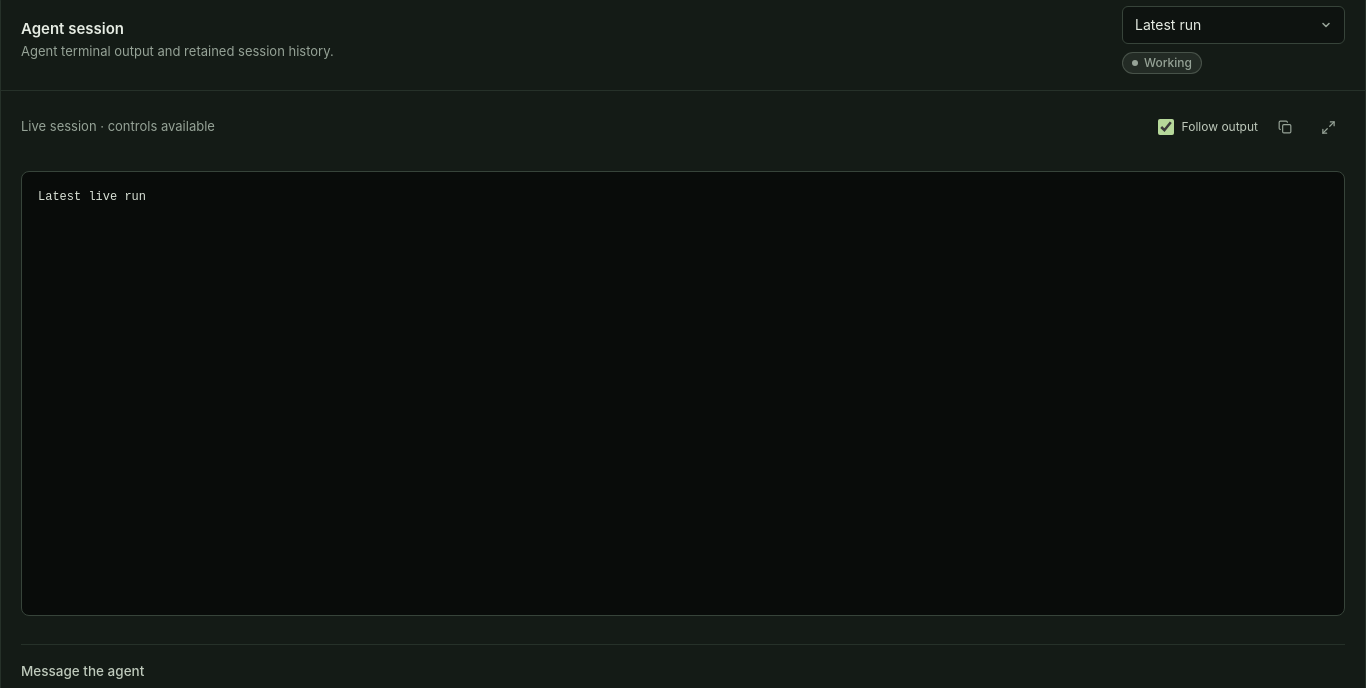
keeps explicitly selected history pinned and can return to Latest run
The image size is (1366, 688).
Select "Run 1 · run-1" in the dropdown named "Agent run": {"x": 1234, "y": 25} [1122,6,1345,44]
Wait 1500 ms
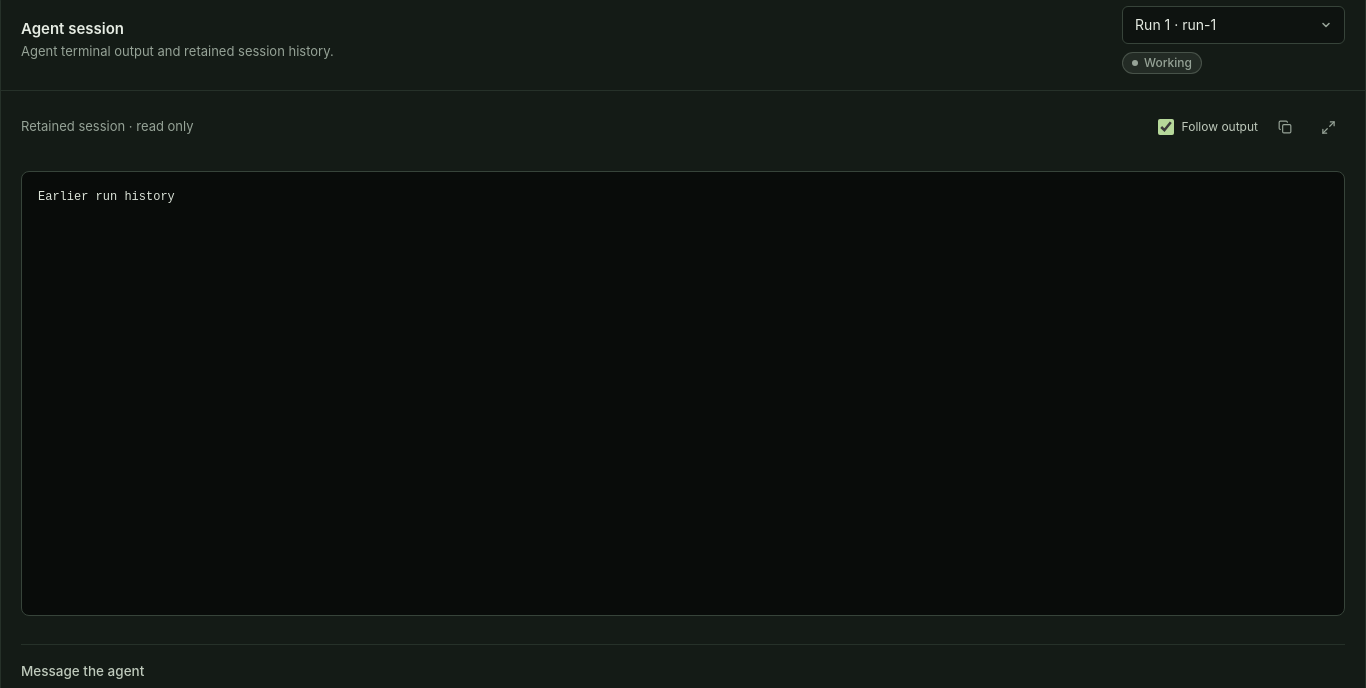
Expected: the dropdown named "Agent run" shows "Run 1 · run-1"
Expected: the text named "Agent terminal output" reads "Earlier run history", [38,190,175,204]
Select "Latest run" in the dropdown named "Agent run": {"x": 1234, "y": 25} [1122,6,1345,44]
(page scrolled)
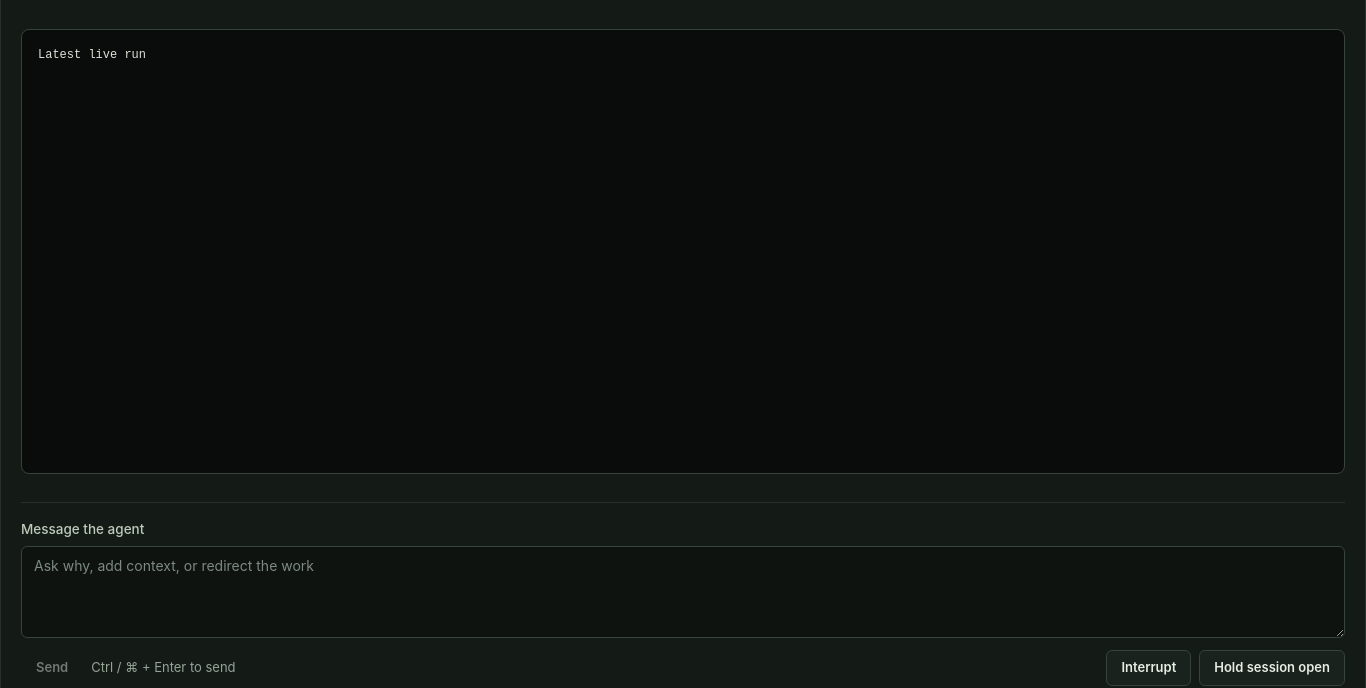
Expected: the text "Earlier run history" is gone
Expected: the text named "Agent terminal output" reads "Latest live run", [38,48,146,62]
Expected: the button "Interrupt" is enabled, [1106,650,1191,686]
